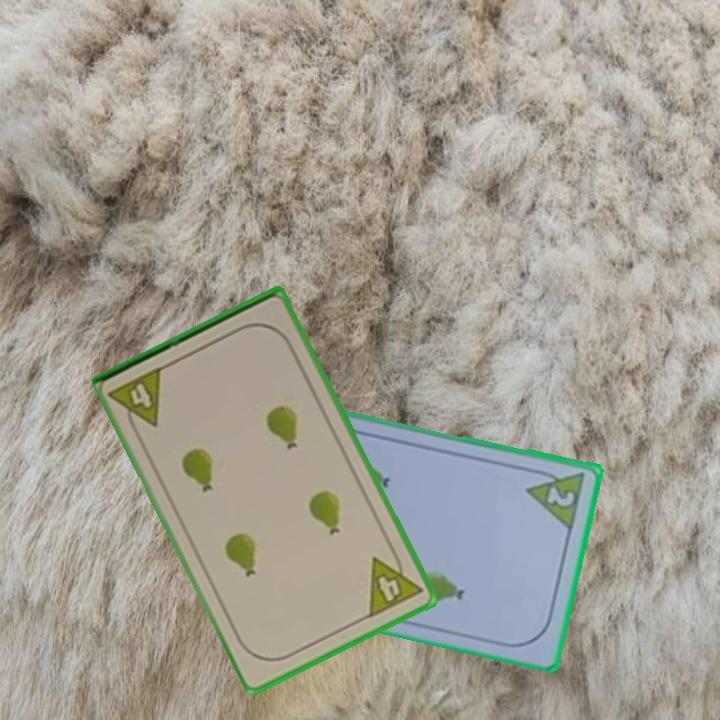2p: (523, 464, 589, 533)
4p: (365, 544, 426, 621), (107, 362, 167, 438)
